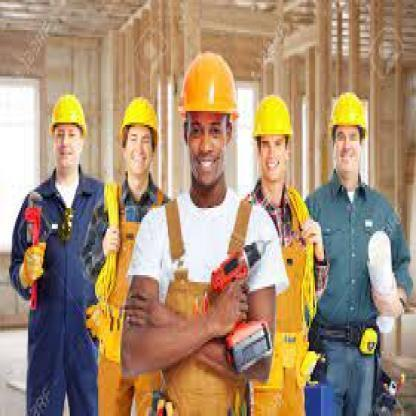gloves: (16, 244, 43, 286)
helmet: (176, 50, 238, 113), (118, 96, 158, 148), (252, 91, 294, 138), (49, 94, 89, 136), (330, 91, 367, 133)
vest: (141, 201, 278, 416), (16, 162, 102, 403), (309, 183, 412, 328)
